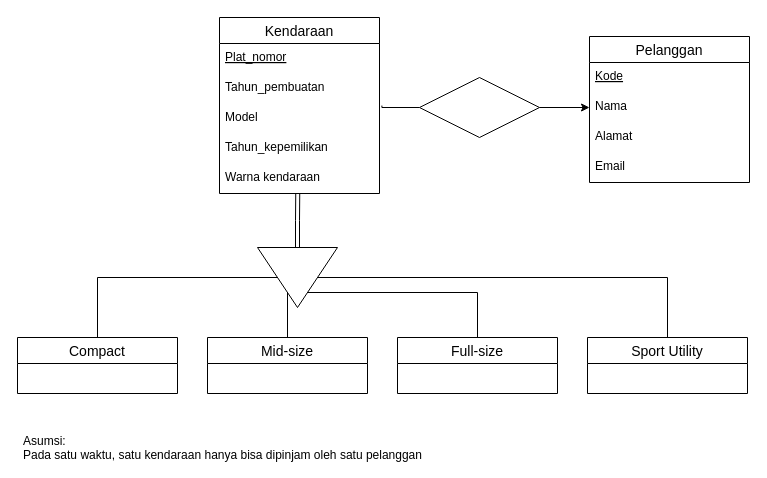
Image size: 767x478. Some labels were removed from this diagram. The shapes that lost their labels are listed below. From the top down, each one's centre as x and y in pixels, then its label:
At point (479, 107): "Peminjaman".
At point (297, 277): "ISA".
